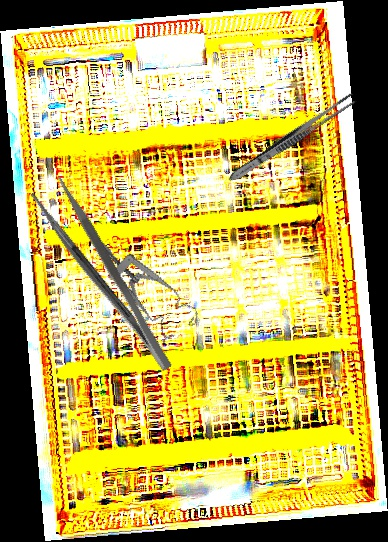Dressing Forceps: (29, 174, 177, 384), (225, 89, 359, 187)
Speculum: (94, 218, 203, 352)
Surgical Spoon: (46, 213, 133, 319)
